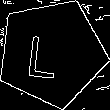L_N: (33, 26, 70, 80)
